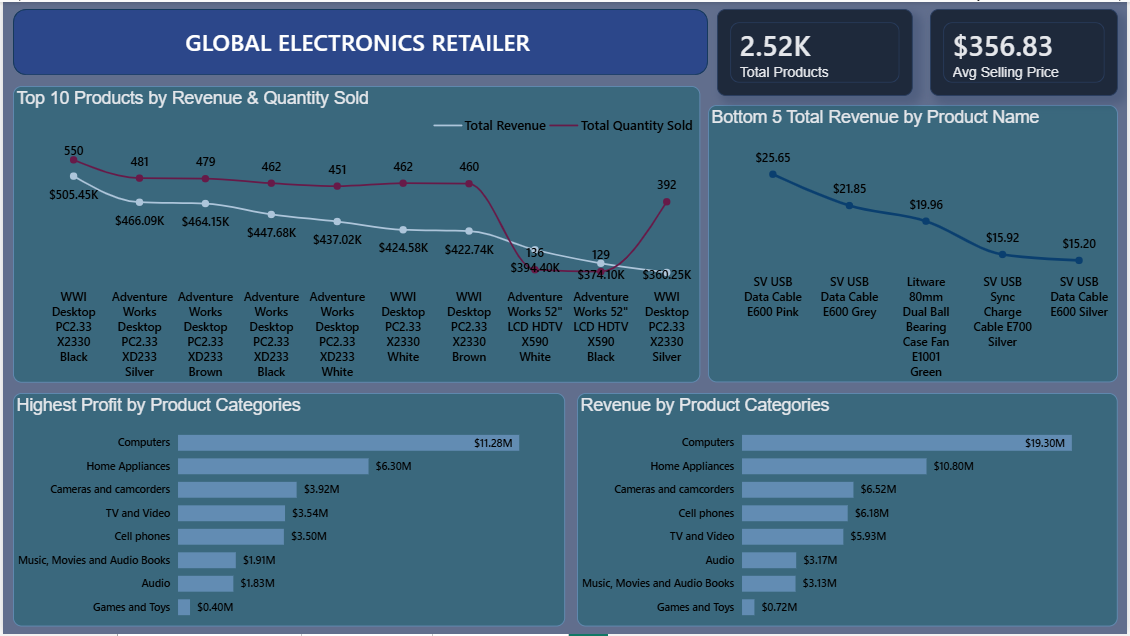

The dashboard page shown, as its layout file describes it:
{"tool":"powerbi","page":{"name":"Product Analysis","canvas":[1280,720],"ordinal":1},"visuals":[{"type":"lineChart","title":"Top 10 Products by Revenue & Quantity Sold","fields":{"Y":["Measures_Table.Total Revenue"],"Category":["Products.Product Name"],"Y2":["Measures_Table.Total Quantity Sold"]},"box":[11.5,95.6,782.8,337.8],"z":0},{"type":"barChart","title":"Highest Profit by Product Categories","fields":{"Category":["Products.Category"],"Y":["Measures_Table.Total Profit"]},"box":[11.5,444.9,628.5,266.5],"z":1000},{"type":"lineChart","title":"Bottom 5 Total Revenue by Product Name","fields":{"Category":["Products.Product Name"],"Y":["Measures_Table.Total Revenue"]},"box":[803.2,117.3,466.6,316.2],"z":2000},{"type":"barChart","title":"Revenue by Product Categories","fields":{"Category":["Products.Category"],"Y":["Measures_Table.Total Revenue"]},"box":[654,444.9,615.8,266.5],"z":3000},{"type":"cardVisual","fields":{"Data":["Measures_Table.Total Products"]},"box":[813.4,7.6,223.1,99.4],"z":4000},{"type":"cardVisual","fields":{"Data":["Measures_Table.Avg Selling Price"]},"box":[1055.6,7.6,214.2,99.4],"z":5000},{"type":"group","id":"g1","title":"Group 1","box":[11.5,7.6,791.7,75.2],"z":6000},{"type":"shape","box":[11.5,7.6,791.7,75.2],"z":12000,"group":"g1"},{"type":"textbox","box":[191.5,20.8,425.7,45.9],"z":13000,"group":"g1"}]}

Visuals, with their boxes in screenshot pixels (x1, y1, x2, y2), scaled from the page's 1280x720 canvas onto the 1130x636 screenshot:
"Top 10 Products by Revenue & Quantity Sold" lineChart: box(10, 84, 701, 383)
"Highest Profit by Product Categories" barChart: box(10, 393, 565, 628)
"Bottom 5 Total Revenue by Product Name" lineChart: box(709, 104, 1121, 383)
"Revenue by Product Categories" barChart: box(577, 393, 1121, 628)
cardVisual - Measures_Table.Total Products: box(718, 7, 915, 95)
cardVisual - Measures_Table.Avg Selling Price: box(932, 7, 1121, 95)
"Group 1" group: box(10, 7, 709, 73)
shape: box(10, 7, 709, 73)
textbox: box(169, 18, 545, 59)
